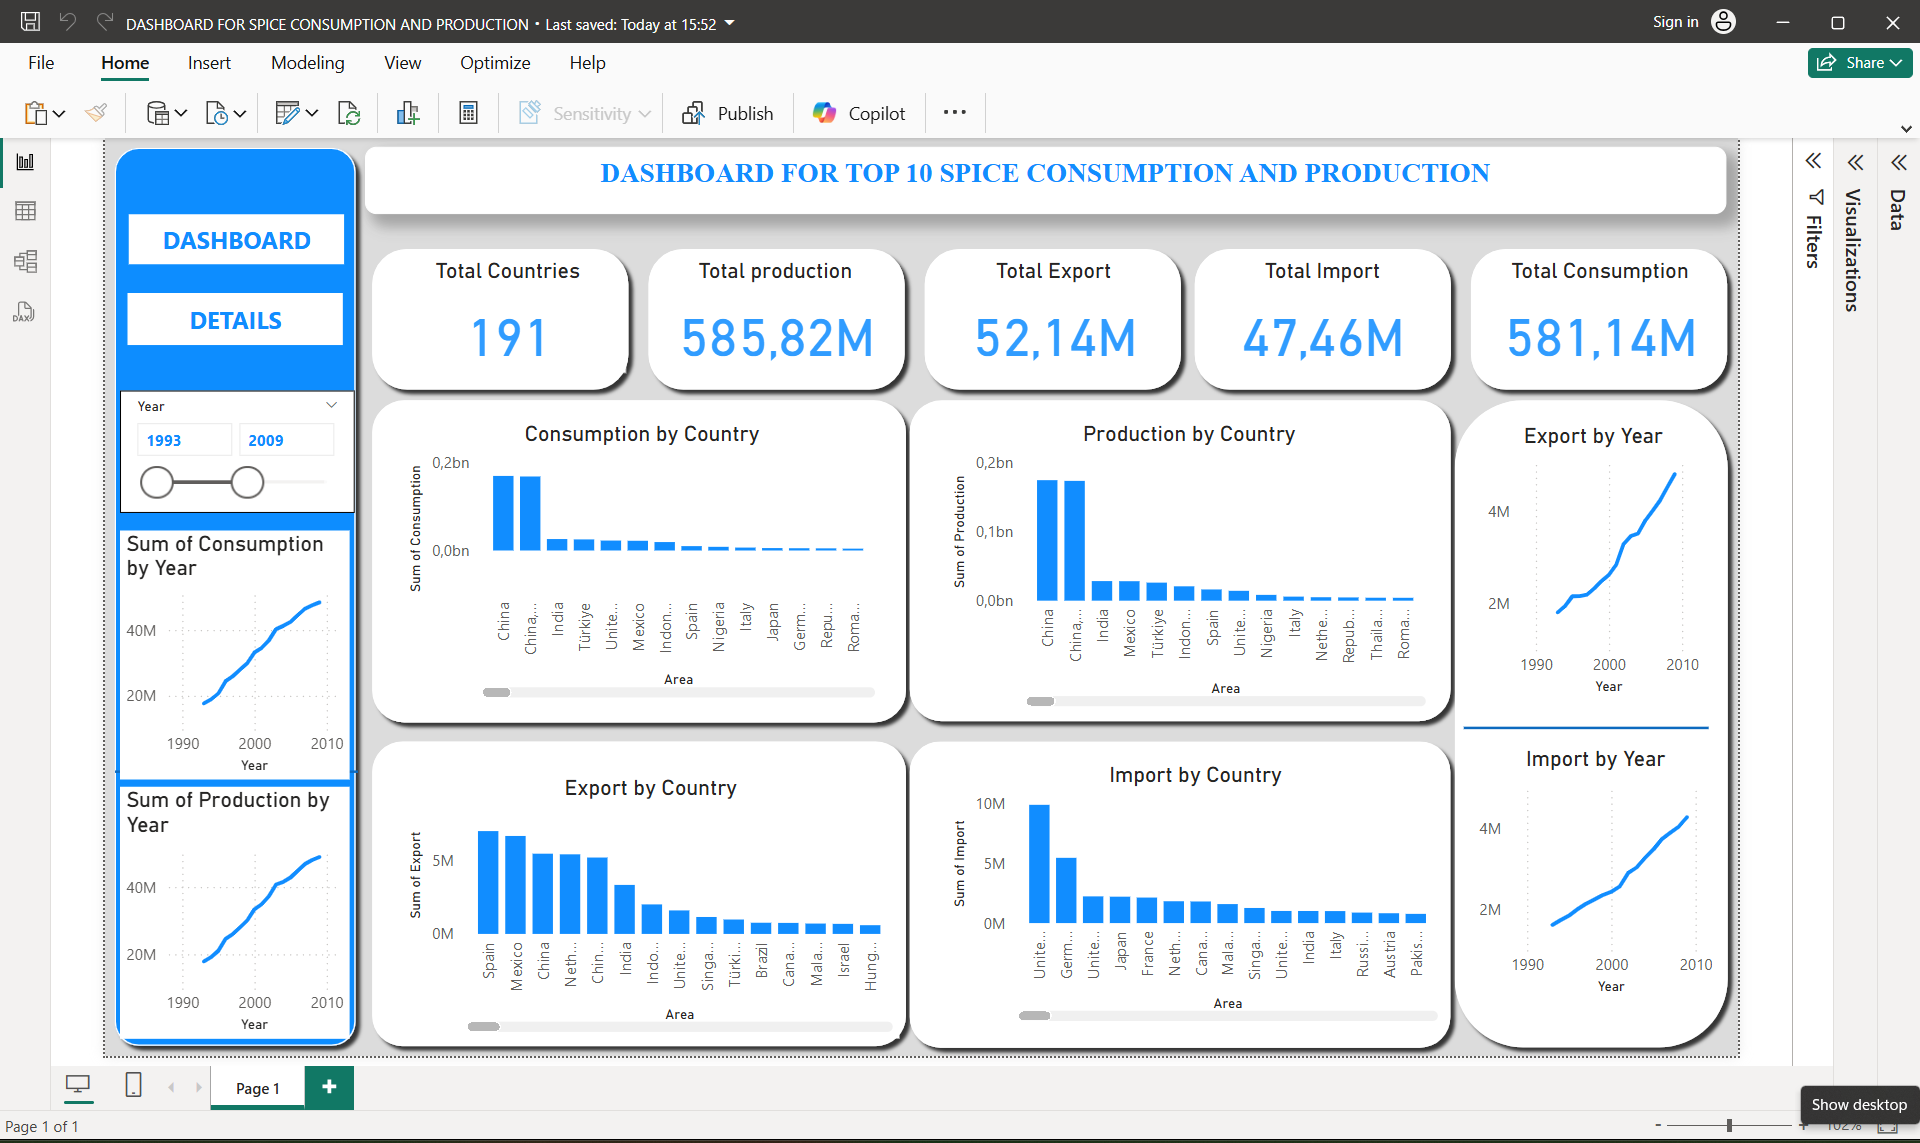

Layout of this report page (visuals, bound fields, positions):
{"tool":"powerbi","page":{"name":"Page 1","canvas":[1280,720],"ordinal":0},"visuals":[{"type":"shape","box":[0,0,204.3,720.4],"z":0},{"type":"shape","box":[202.4,79.4,216.3,125.6],"z":0,"group":"g1"},{"type":"textbox","box":[203.8,6.9,1067.1,52.9],"z":1000},{"type":"shape","box":[1062.8,79.4,216.3,125.6],"z":1000,"group":"g1"},{"type":"shape","box":[634.9,79.4,216.3,125.6],"z":2000,"group":"g1"},{"type":"slicer","fields":{"Values":["Global spice consumption.Year"]},"box":[11.8,197.9,184.2,96],"z":2000},{"type":"group","id":"g1","title":"Group 1","box":[201.9,79.4,1077.6,641.1],"z":3000},{"type":"shape","box":[846.6,79.4,216.3,125.6],"z":3000,"group":"g1"},{"type":"shape","box":[418.6,79.4,216.3,125.6],"z":4000,"group":"g1"},{"type":"actionButton","box":[17.4,121.5,169.2,40.5],"z":5000},{"type":"shape","box":[201.9,197.8,433.7,267.9],"z":5000,"group":"g1"},{"type":"shape","box":[623.4,198,439.5,267.1],"z":6000,"group":"g1"},{"type":"actionButton","box":[18.8,59.3,169.2,39],"z":7000},{"type":"shape","box":[201.9,465.8,433.7,254.1],"z":7000,"group":"g1"},{"type":"shape","box":[623.4,465.1,439.5,255.5],"z":8000,"group":"g1"},{"type":"shape","box":[1050.3,198,229.2,522.5],"z":9000,"group":"g1"},{"type":"cardVisual","title":"Total production","fields":{"Data":["Sum(Global spice consumption.Production)"]},"box":[426.8,94.5,196.5,95.3],"z":10000,"group":"g1"},{"type":"cardVisual","title":"Total Export","fields":{"Data":["Sum(Global spice consumption.Export )"]},"box":[647.7,94.5,191.9,95.3],"z":11000,"group":"g1"},{"type":"cardVisual","title":"Total Import","fields":{"Data":["Sum(Global spice consumption.Import)"]},"box":[858.2,94.5,191.9,95.3],"z":12000,"group":"g1"},{"type":"cardVisual","title":"Total Consumption","fields":{"Data":["Sum(Global spice consumption.Consumption)"]},"box":[1075.6,94.5,191.9,95.3],"z":13000,"group":"g1"},{"type":"cardVisual","title":"Total Countries","fields":{"Data":["ALL MEASURE.Number of Countries"]},"box":[217.5,94.5,196.5,95.3],"z":14000,"group":"g1"},{"type":"clusteredColumnChart","title":"Consumption by Country","fields":{"Y":["Sum(Global spice consumption.Consumption)"],"Category":["Global spice consumption.Area"]},"box":[233.7,221.3,375.7,222.4],"z":15000,"group":"g1"},{"type":"clusteredColumnChart","title":"Production by Country","fields":{"Y":["Sum(Global spice consumption.Production)"],"Category":["Global spice consumption.Area"]},"box":[659,221.3,381.2,229.3],"z":16000,"group":"g1"},{"type":"columnChart","title":"Export  by Country","fields":{"Category":["Global spice consumption.Area"],"Y":["Sum(Global spice consumption.Export )"]},"box":[233.7,498.9,389.5,207.2],"z":17000,"group":"g1"},{"type":"lineChart","title":" Export  by Year","fields":{"Y":["Sum(Global spice consumption.Export )"],"Category":["Global spice consumption.Year"]},"box":[1078.8,223.2,175.6,217.4],"z":18000,"group":"g1"},{"type":"shape","box":[1064.9,455.7,191.9,14],"z":19000,"group":"g1"},{"type":"shape","box":[8.1,489.5,190.7,14],"z":19000},{"type":"lineChart","fields":{"Category":["Global spice consumption.Year"],"Y":["Sum(Global spice consumption.Consumption)"]},"box":[11.6,308.1,180.2,195.3],"z":19001},{"type":"lineChart","fields":{"Category":["Global spice consumption.Year"],"Y":["Sum(Global spice consumption.Production)"]},"box":[11.6,508.1,180.2,197.7],"z":19002},{"type":"lineChart","title":"Import by Year","fields":{"Y":["Sum(Global spice consumption.Import)"],"Category":["Global spice consumption.Year"]},"box":[1071.8,476.6,193,200],"z":20000,"group":"g1"},{"type":"columnChart","title":" Import by Country","fields":{"Category":["Global spice consumption.Area"],"Y":["Sum(Global spice consumption.Import)"]},"box":[659,489.2,390.9,208.5],"z":21000,"group":"g1"}]}

Visuals, with their boxes on the page's 1280x720 design canvas (x1, y1, x2, y2). These are canvas units, not pixel positions in the 1920x1143 screenshot, which may show the page scaled, cropped or inside an application window:
shape: bbox(0, 0, 204, 720)
shape: bbox(202, 79, 419, 205)
textbox: bbox(204, 7, 1271, 60)
shape: bbox(1063, 79, 1279, 205)
shape: bbox(635, 79, 851, 205)
slicer - Global spice consumption.Year: bbox(12, 198, 196, 294)
"Group 1" group: bbox(202, 79, 1280, 720)
shape: bbox(847, 79, 1063, 205)
shape: bbox(419, 79, 635, 205)
actionButton: bbox(17, 122, 187, 162)
shape: bbox(202, 198, 636, 466)
shape: bbox(623, 198, 1063, 465)
actionButton: bbox(19, 59, 188, 98)
shape: bbox(202, 466, 636, 720)
shape: bbox(623, 465, 1063, 721)
shape: bbox(1050, 198, 1280, 720)
"Total production" cardVisual: bbox(427, 94, 623, 190)
"Total Export" cardVisual: bbox(648, 94, 840, 190)
"Total Import" cardVisual: bbox(858, 94, 1050, 190)
"Total Consumption" cardVisual: bbox(1076, 94, 1268, 190)
"Total Countries" cardVisual: bbox(218, 94, 414, 190)
"Consumption by Country" clusteredColumnChart: bbox(234, 221, 609, 444)
"Production by Country" clusteredColumnChart: bbox(659, 221, 1040, 451)
"Export  by Country" columnChart: bbox(234, 499, 623, 706)
" Export  by Year" lineChart: bbox(1079, 223, 1254, 441)
shape: bbox(1065, 456, 1257, 470)
shape: bbox(8, 490, 199, 504)
lineChart - Global spice consumption.Year x Sum(Global spice consumption.Consumption): bbox(12, 308, 192, 503)
lineChart - Global spice consumption.Year x Sum(Global spice consumption.Production): bbox(12, 508, 192, 706)
"Import by Year" lineChart: bbox(1072, 477, 1265, 677)
" Import by Country" columnChart: bbox(659, 489, 1050, 698)
